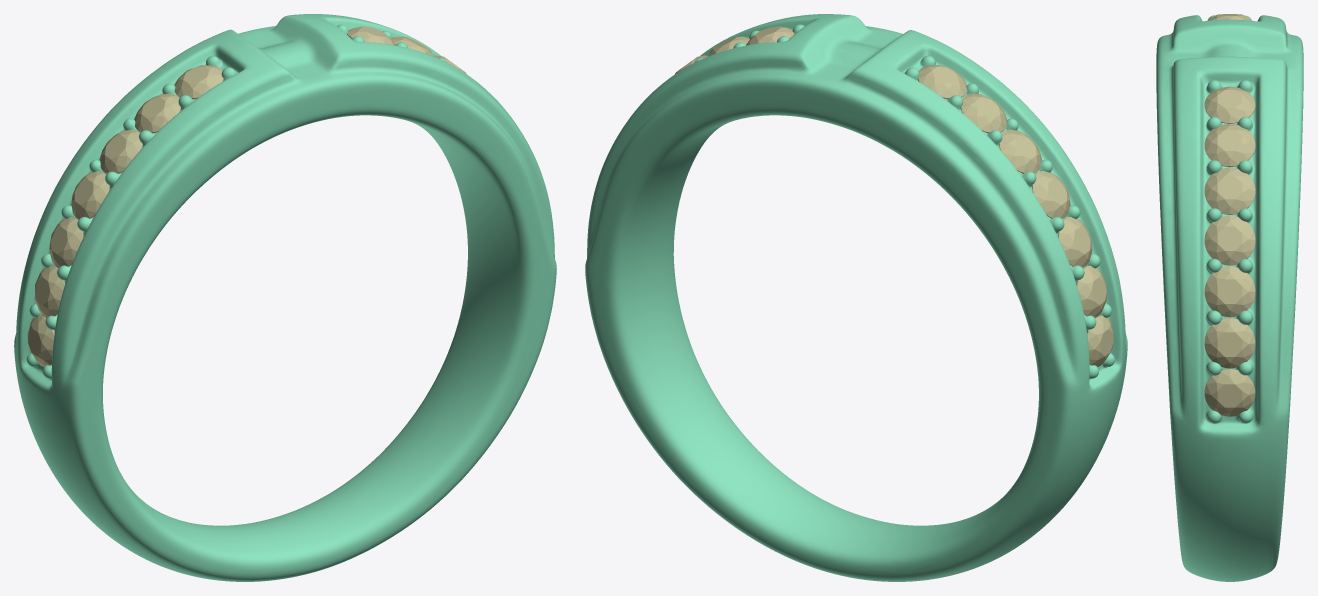
3 views of the same model, side by side, from view 1: azimuth 30°, elevation 25°; view 2: azimuth 150°, elevation 25°; view 3: azimuth 270°, elevation 25° (orthographic). The views are drawn at different scales.
Visible parts, largest first — view 1: Metal02, Diamond_Gem.008, Diamond_Gem.009, Diamond_Gem.010, Diamond_Gem.011, Diamond_Gem.007, Diamond_Gem.012, Diamond_Gem.013; view 2: Metal02, Diamond_Gem.009, Diamond_Gem.008, Diamond_Gem.010, Diamond_Gem.011, Diamond_Gem.007, Diamond_Gem.012, Diamond_Gem.013; view 3: Metal02, Diamond_Gem.002, Diamond_Gem.001, Diamond_Gem.005, Diamond_Gem, Diamond_Gem.004, Diamond_Gem.003, Diamond_Gem.006, Diamond_Gem.007.
Boxes of the visible parts, <box> form: Metal02: <box>14,14,556,581</box>; Diamond_Gem.008: <box>71,171,109,218</box>; Diamond_Gem.009: <box>99,129,142,173</box>; Diamond_Gem.010: <box>134,93,180,133</box>; Diamond_Gem.011: <box>49,217,83,267</box>; Diamond_Gem.007: <box>174,65,223,99</box>; Diamond_Gem.012: <box>34,265,65,317</box>; Diamond_Gem.013: <box>27,315,54,366</box>; Metal02: <box>585,14,1127,581</box>; Diamond_Gem.009: <box>998,129,1041,173</box>; Diamond_Gem.008: <box>1032,171,1070,218</box>; Diamond_Gem.010: <box>960,93,1007,133</box>; Diamond_Gem.011: <box>1058,217,1092,267</box>; Diamond_Gem.007: <box>917,65,967,99</box>; Diamond_Gem.012: <box>1076,265,1106,317</box>; Diamond_Gem.013: <box>1087,315,1113,366</box>; Metal02: <box>1156,15,1303,581</box>; Diamond_Gem.002: <box>1204,266,1255,317</box>; Diamond_Gem.001: <box>1204,318,1255,368</box>; Diamond_Gem.005: <box>1204,215,1255,265</box>; Diamond_Gem: <box>1204,369,1255,416</box>; Diamond_Gem.004: <box>1204,167,1255,214</box>; Diamond_Gem.003: <box>1204,123,1255,167</box>; Diamond_Gem.006: <box>1204,86,1255,123</box>; Diamond_Gem.007: <box>1207,14,1252,20</box>.
Bounding box in the file's own units: 21.61 × 21.78 × 5.65.
